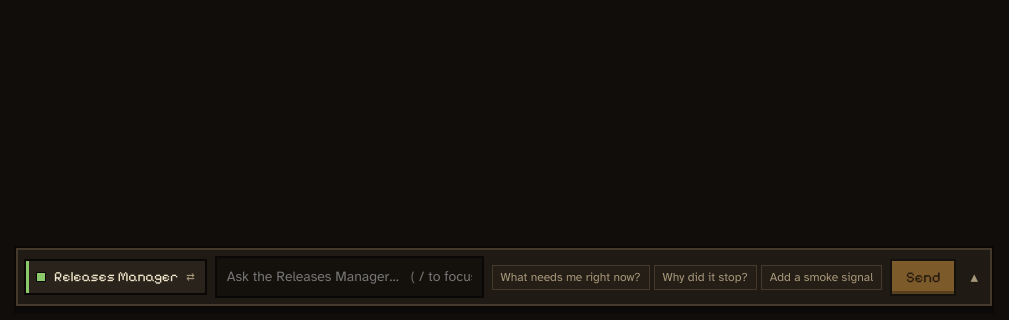
Test: A manager's proposals › starts over when you cancel a confirmation
The width and height of the screenshot is (1009, 320).
Click the button named "Show conversation": (974, 277) [964,265,984,290]
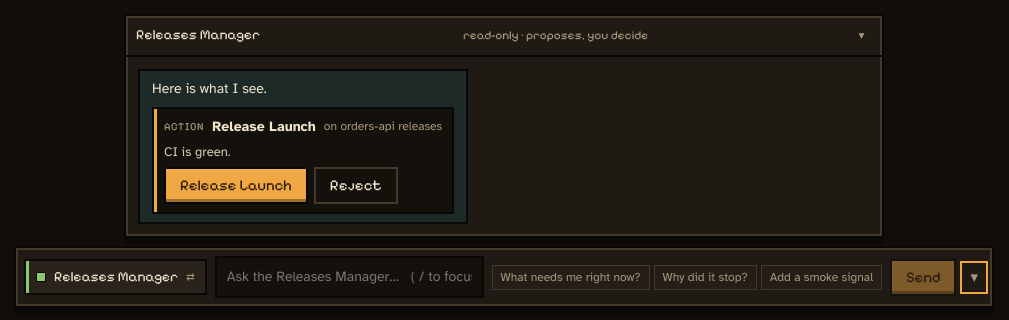
Click the button "Release Launch": (236, 186) [164,167,308,204]
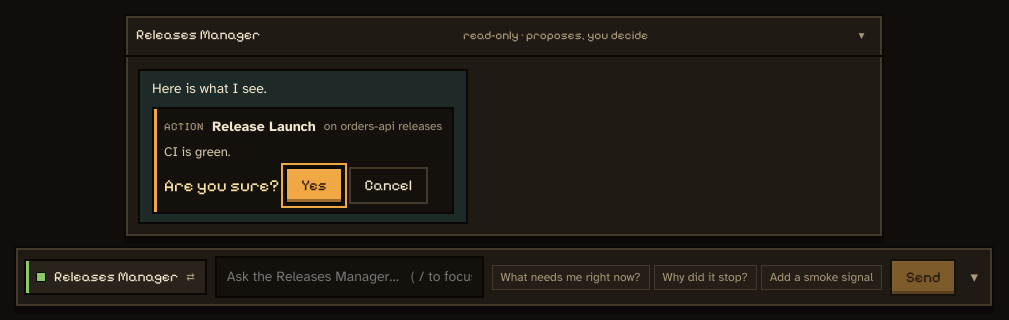
Click the button "Cancel": (388, 186) [348,167,428,204]
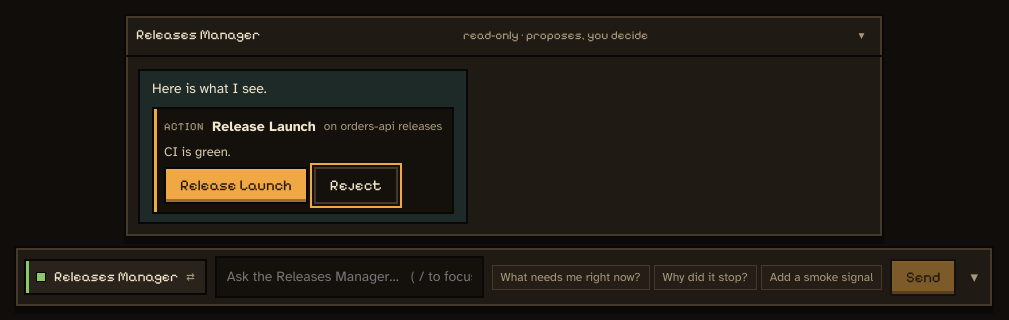
Now the button "Release Launch" is shown, box [164,167,308,204]
